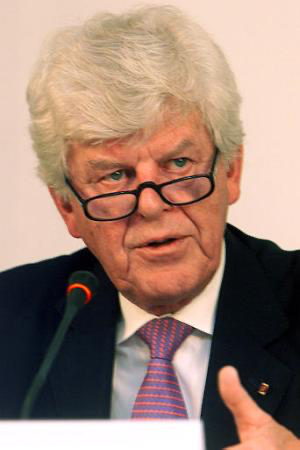Face: (66, 131, 234, 309)
